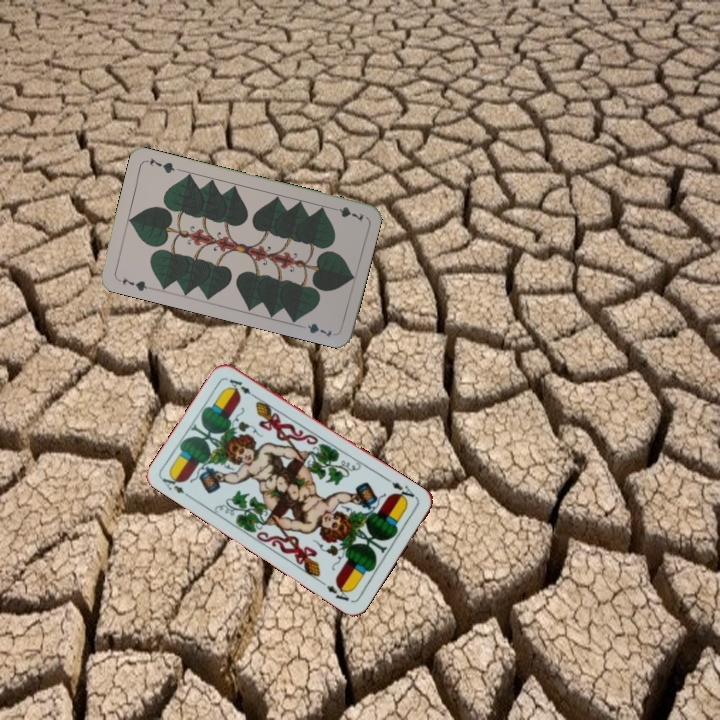EA: (158, 470, 195, 502), (383, 475, 420, 505)
G7: (326, 203, 366, 224), (114, 273, 154, 294)
